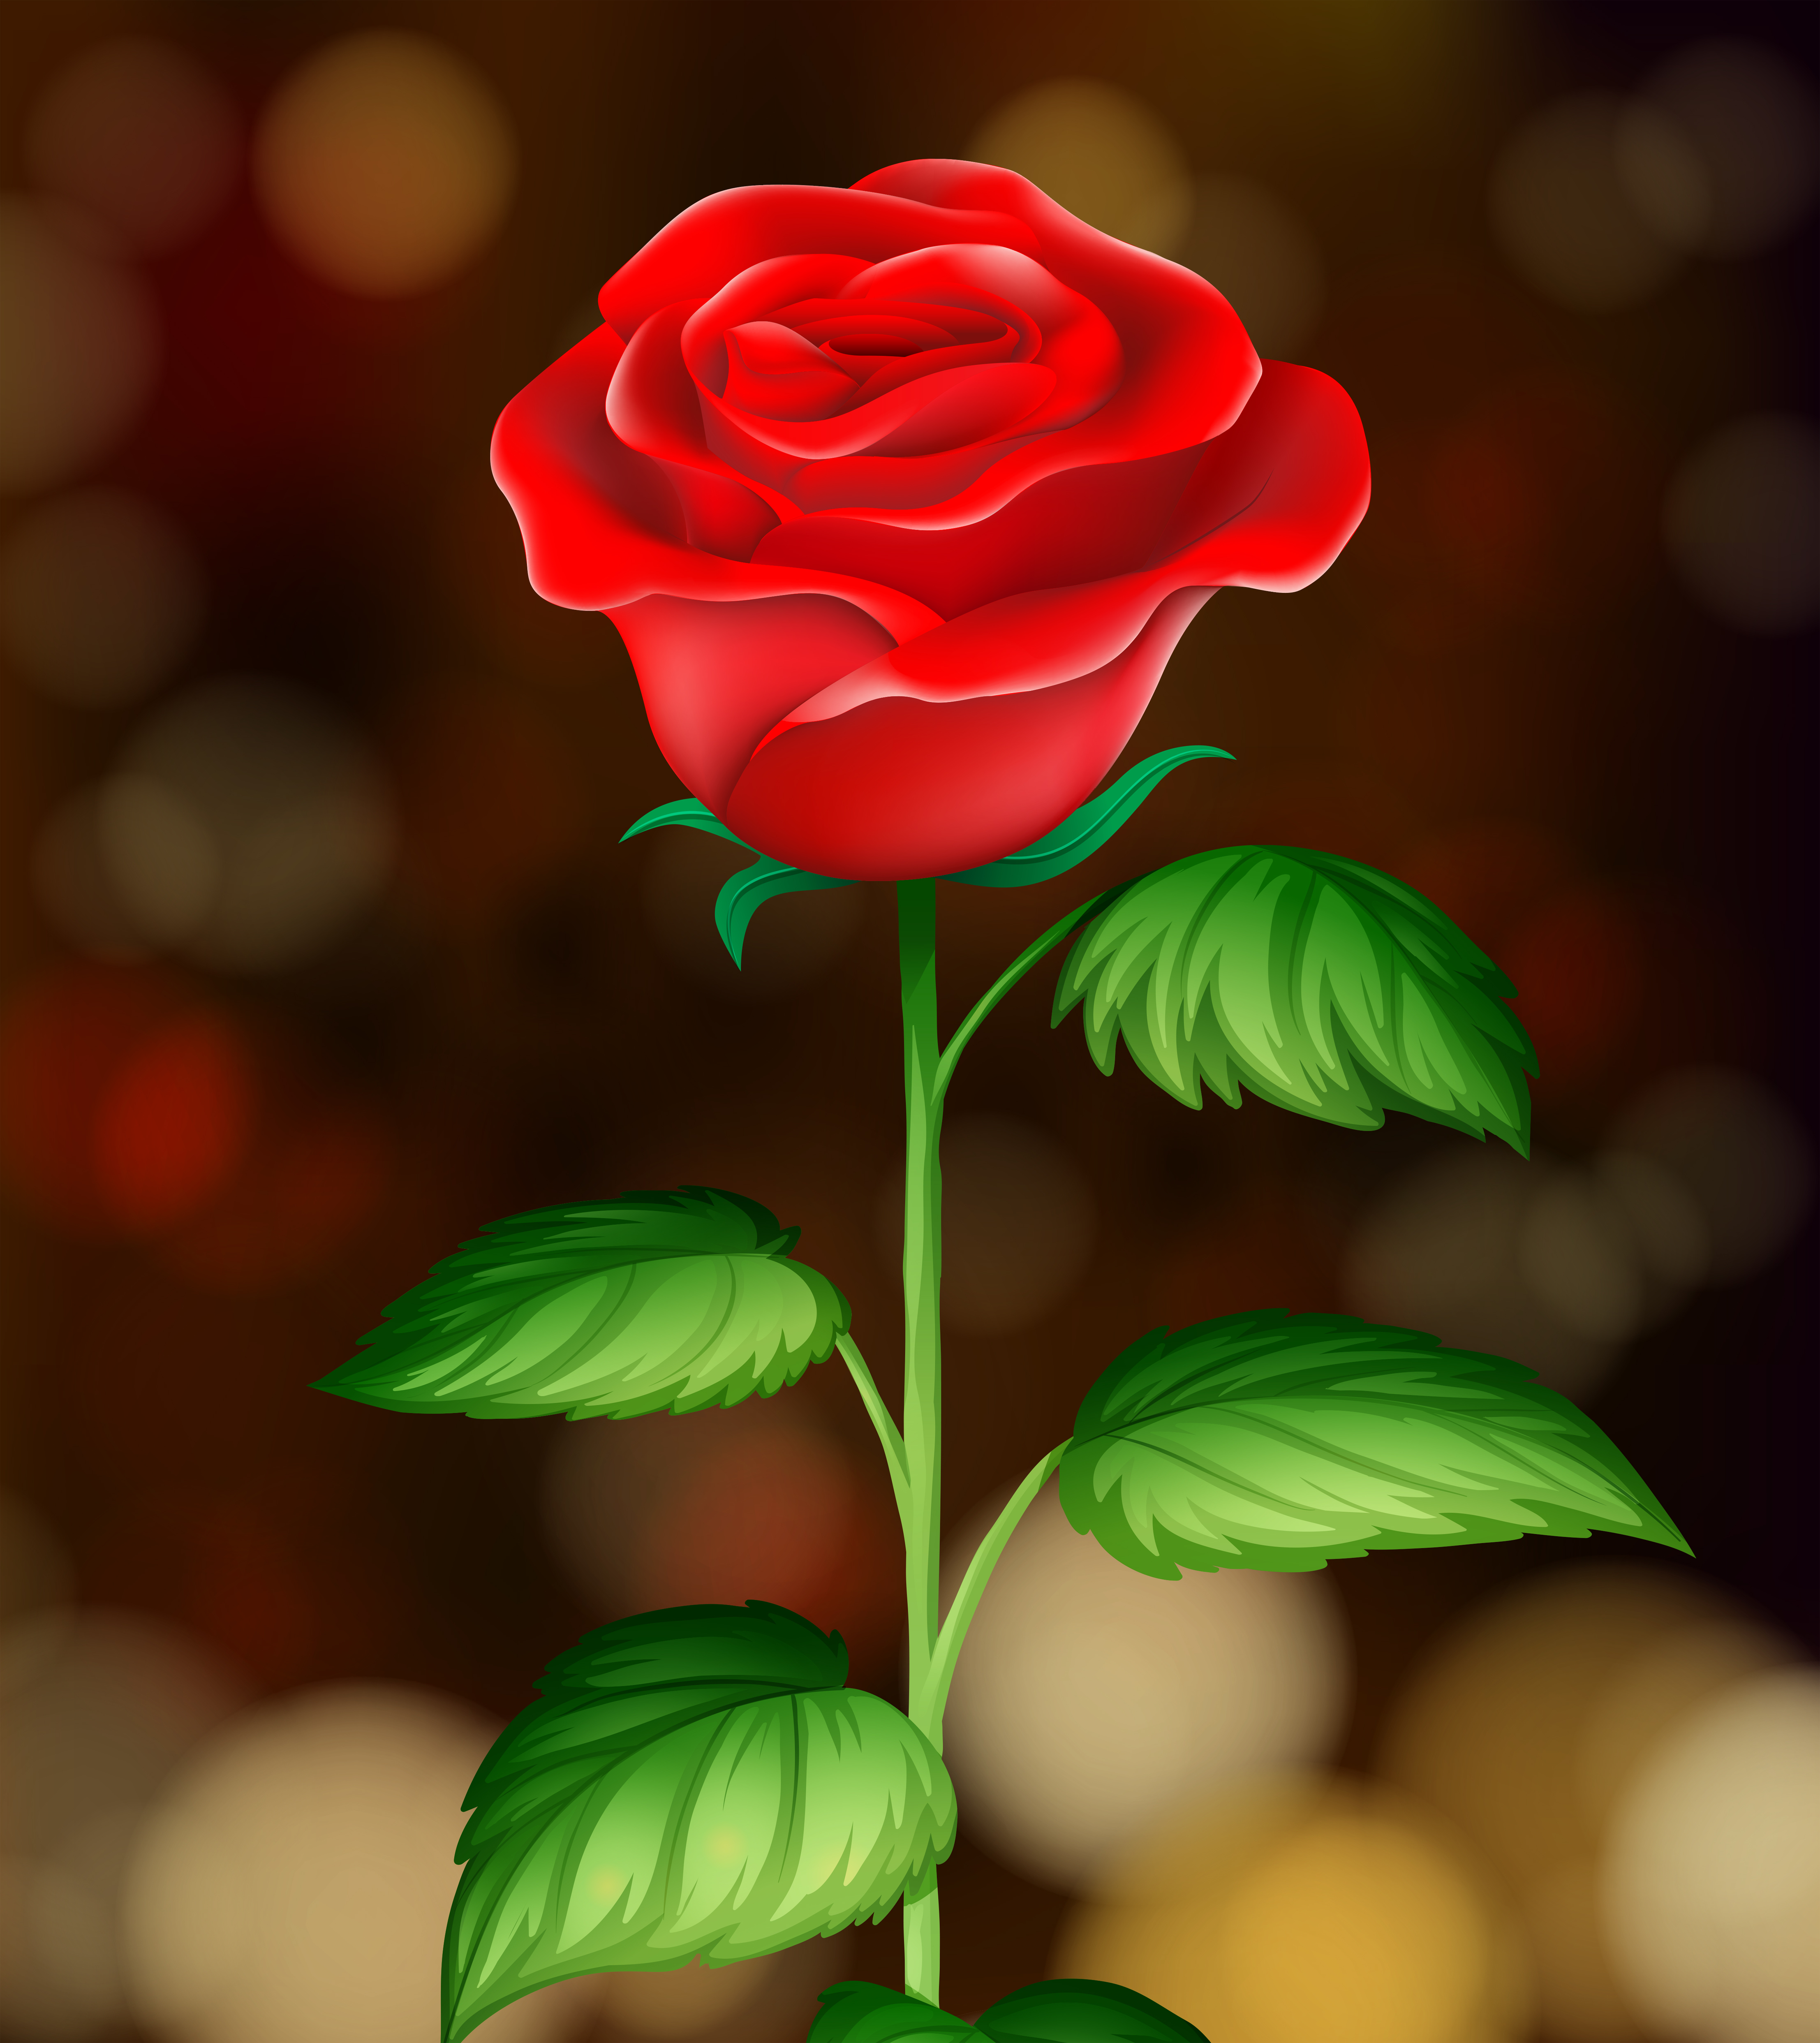rose: (429, 119, 1423, 931)
